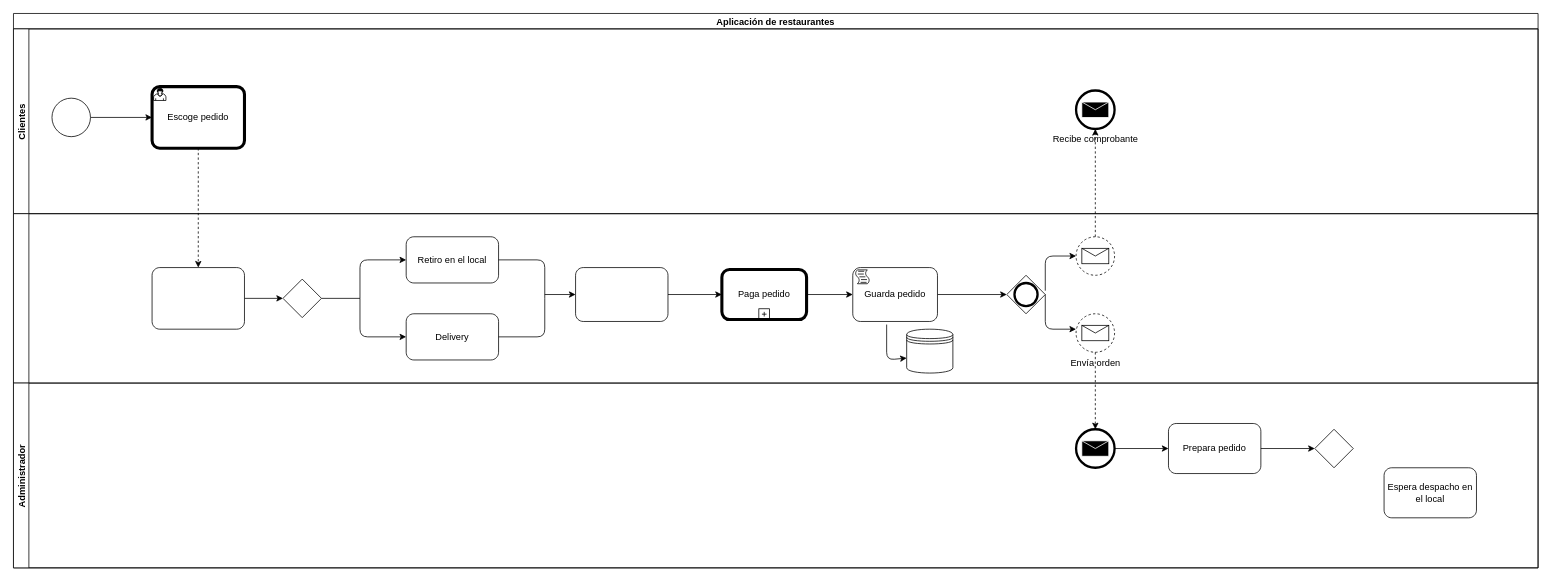
This 1552x581 diagram has some shape labels left out. Each missing label, with the box of its shape:
Añade a carrito de compras: (151, 267, 244, 329)
Crea pedido: (575, 267, 668, 321)
Envía comprobante de orden: (1075, 236, 1115, 275)
Recibe orden de pedido: (1075, 429, 1115, 468)
Sistema: (13, 213, 1538, 383)
¿Es Delivery?: (1314, 429, 1353, 468)
